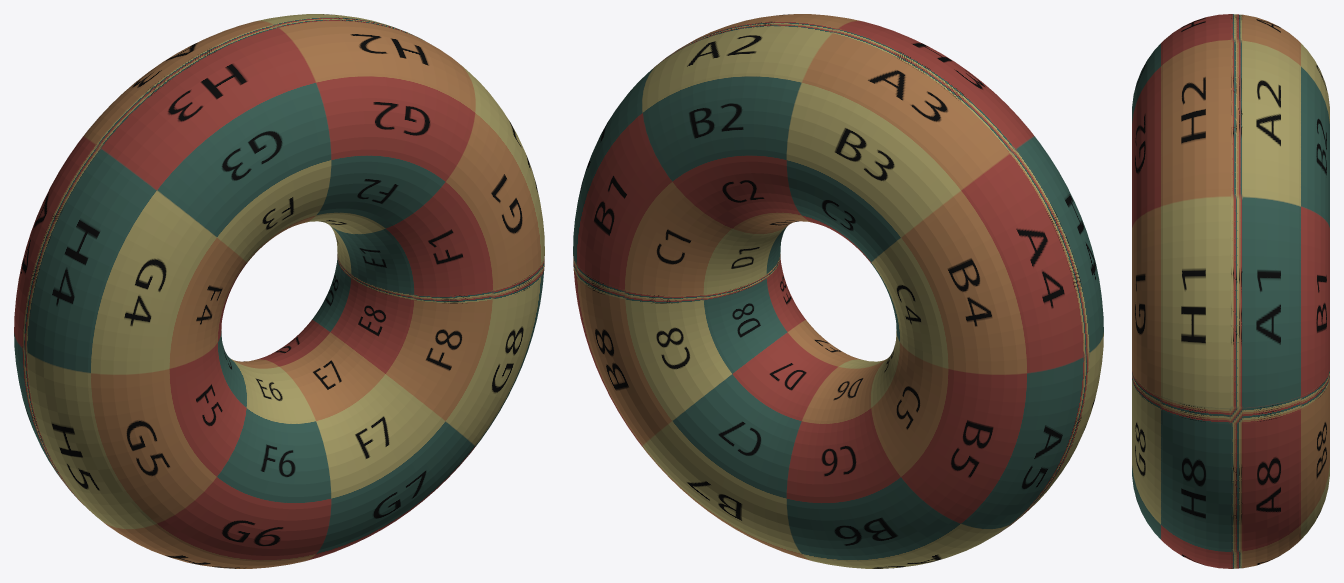
Rendered from texture_torus_R0_r4.glb.
3 renders of one model, left to right at view 1: azimuth 30°, elevation 25°; view 2: azimuth 150°, elevation 25°; view 3: azimuth 270°, elevation 25°, orthographic. The views are drawn at different scales.
Parts seen in each view (by area): view 1: world; view 2: world; view 3: world.
Part boxes in pixels (bbox=[...]): world: bbox=[14, 14, 544, 568]; world: bbox=[573, 14, 1103, 568]; world: bbox=[1132, 14, 1329, 568].
Size of the model in its own units: 15.56 by 15.56 by 5.54.
1 material, 1 textured.
